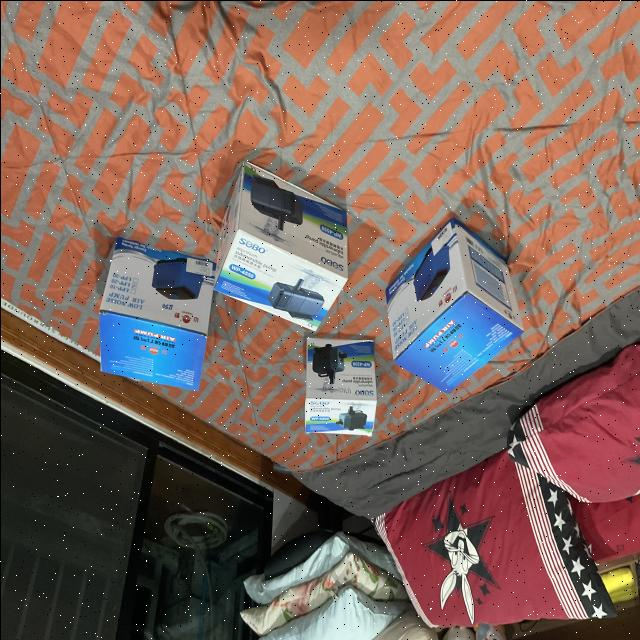SOBO_WP_4200: (214, 154, 358, 348), (292, 326, 390, 455)
YAMANO_LPP_20: (382, 189, 538, 408), (72, 228, 226, 392)
